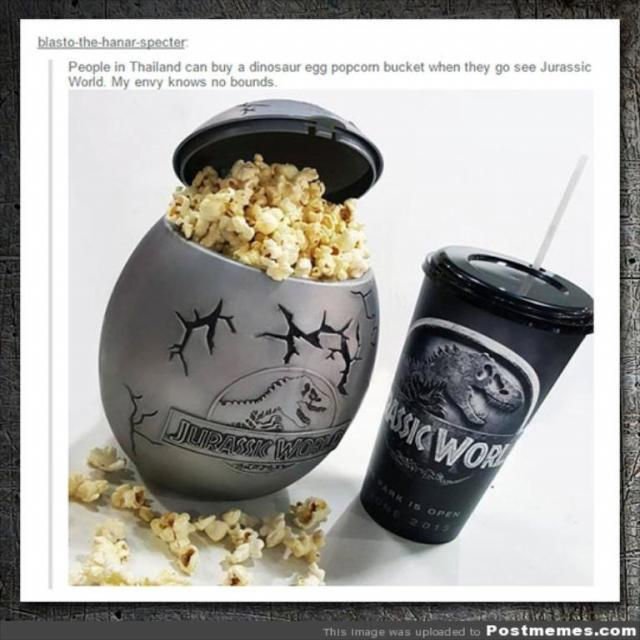Popcorn: (70, 440, 328, 588), (67, 442, 326, 583), (162, 153, 370, 286)
